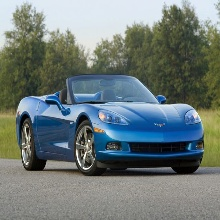no damage: (15, 72, 205, 179)
